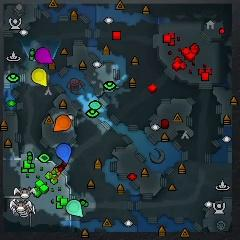p1: (56, 143, 72, 164)
p2: (66, 200, 83, 217)
p3: (34, 47, 54, 64)
p4: (32, 68, 48, 87)
p5: (53, 115, 72, 132)
